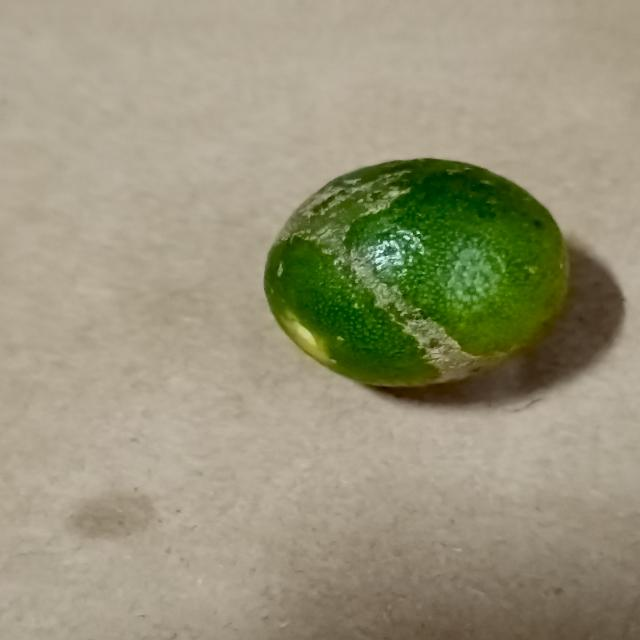thrips: (261, 150, 570, 385)
